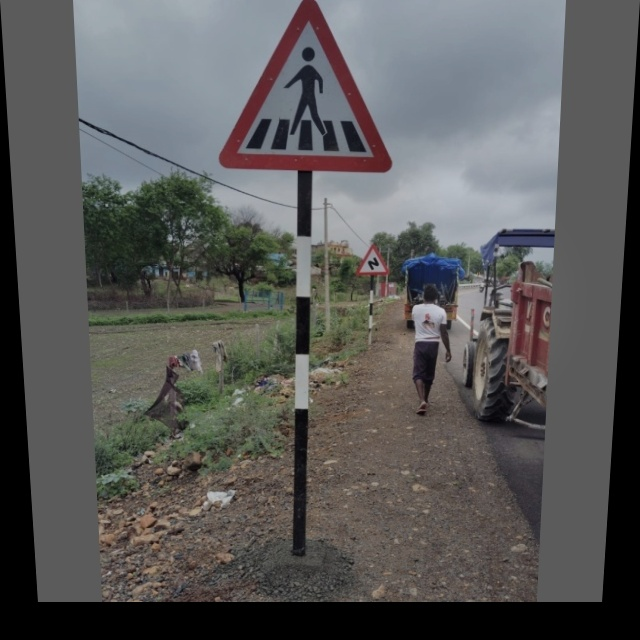Pedestrian_Crossing: (216, 4, 393, 170)
